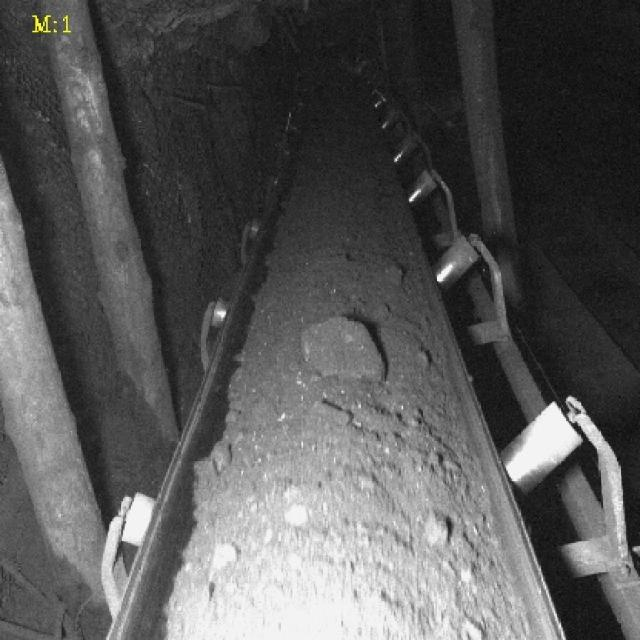large_sized_coal: (300, 317, 386, 383)
